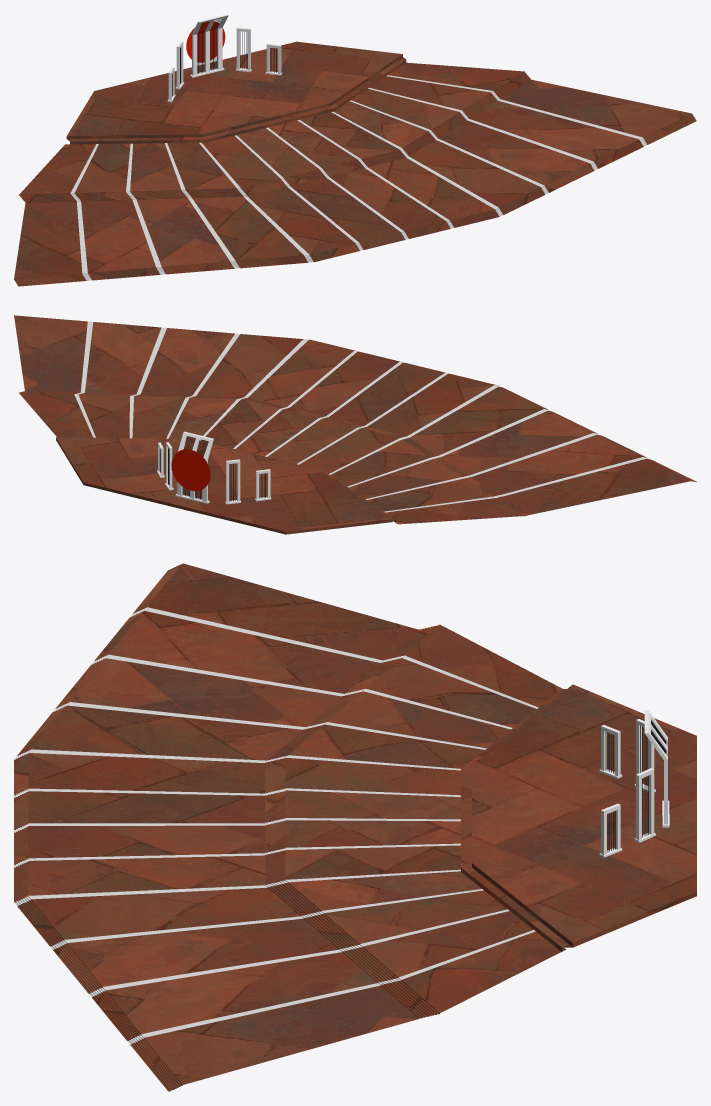
3 renders of one model, top to bottom at view 1: azimuth 30°, elevation 25°; view 2: azimuth 150°, elevation 25°; view 3: azimuth 270°, elevation 25°, orthographic. The views are drawn at different scales.
Parts seen in each view (by area): view 1: pavement 2, Pavement, pavement 3, shohid minar, steel, Circle; view 2: pavement 2, Pavement, pavement 3, shohid minar, Circle, steel; view 3: pavement 2, Pavement, pavement 3, shohid minar, steel.
Boxes of the visible parts, x1,y1,x2,y2 form: pavement 2: (14,62,696,286); Pavement: (66,41,406,144); pavement 3: (70,75,646,280); shohid minar: (167,14,282,102); steel: (172,18,276,96); Circle: (186,21,225,62); pavement 2: (14,315,696,524); Pavement: (56,437,395,534); pavement 3: (74,321,650,512); shohid minar: (157,431,271,504); Circle: (171,449,210,491); steel: (159,436,267,501); pavement 2: (14,563,566,1091); Pavement: (461,684,696,951); pavement 3: (14,607,538,1044); shohid minar: (599,710,669,857); steel: (605,720,666,852).
Bounding box in the file's own units: 85.5 × 8.74 × 47.29.
5 materials, 1 textured.
